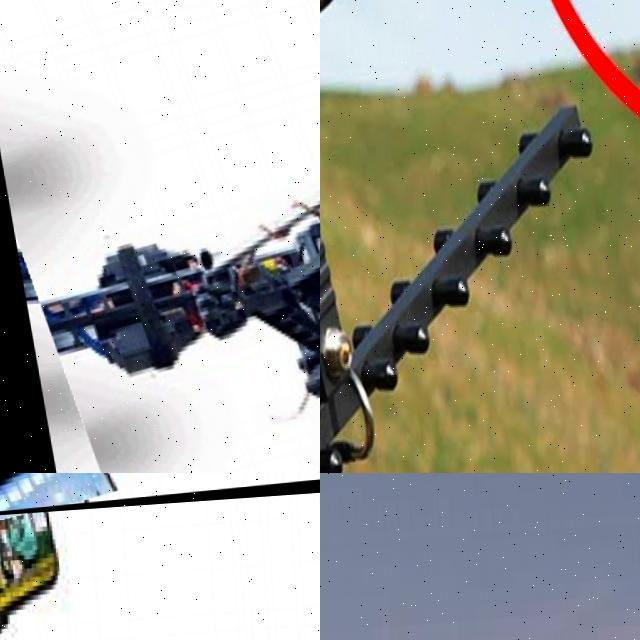drone: (0, 0, 320, 473), (0, 473, 320, 526)
